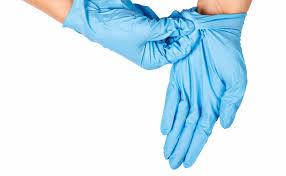Glove: (161, 8, 246, 168), (63, 0, 193, 68)
